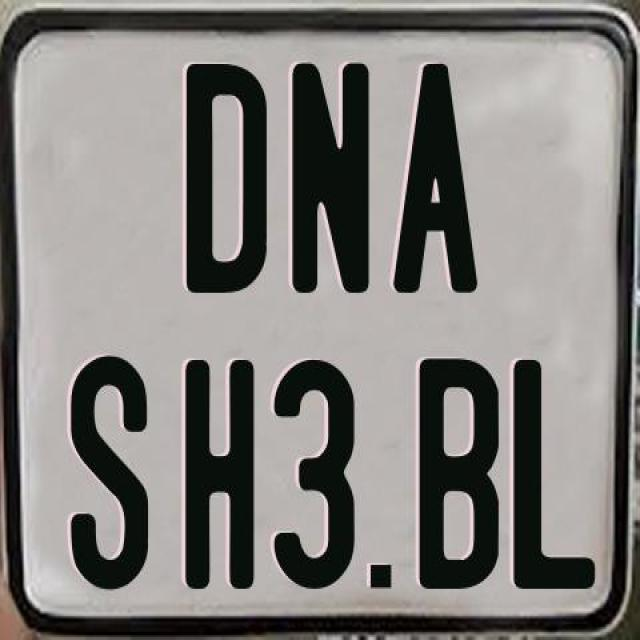3: (272, 357, 352, 589)
A: (389, 59, 479, 294)
B: (418, 356, 502, 590)
D: (184, 64, 268, 302)
H: (185, 357, 263, 596)
L: (509, 355, 591, 587)
N: (292, 61, 375, 301)
S: (70, 355, 150, 595)
